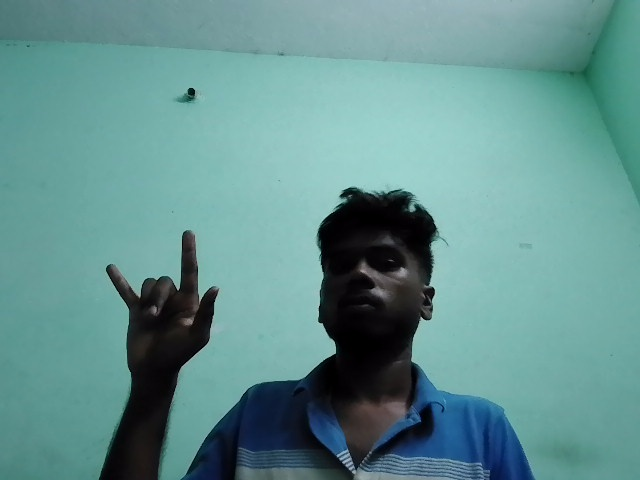I Love You: (82, 222, 267, 392)
